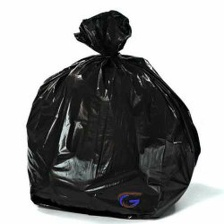plastic_bag: (18, 6, 216, 221)
